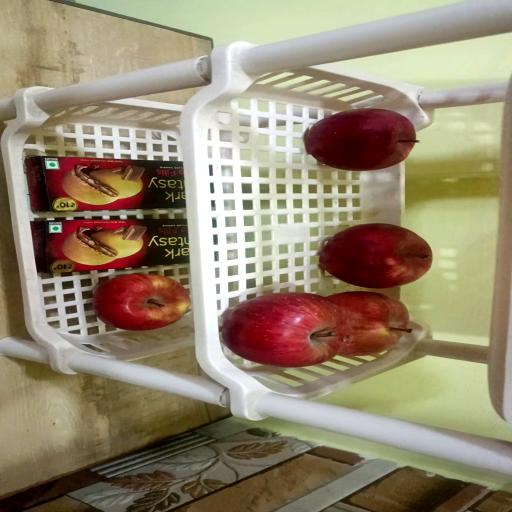Apple: (221, 293, 348, 368), (320, 226, 432, 290), (304, 108, 416, 170), (92, 275, 190, 332), (329, 292, 410, 356)
Choco Fills: (25, 159, 184, 214), (32, 221, 188, 275)
